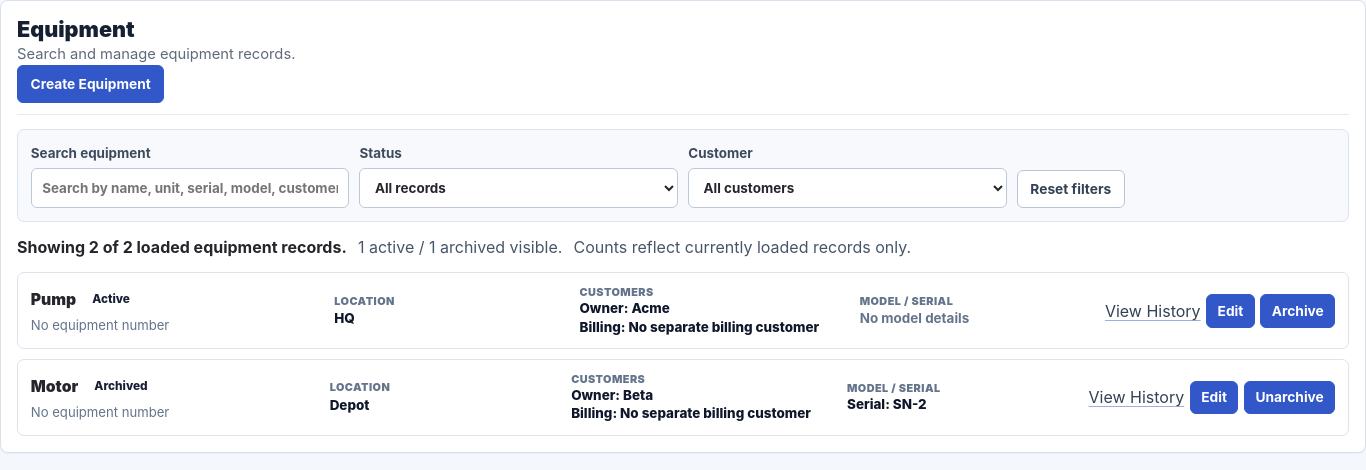
Test: EquipmentPage › filters equipment by customer and archived status
Expected: the text "Pump" is shown, 31,290 -> 76,310
Select "Beta" in the dropdown labelled "Customer". click: (847, 188)
box: 688,168 -> 1006,208
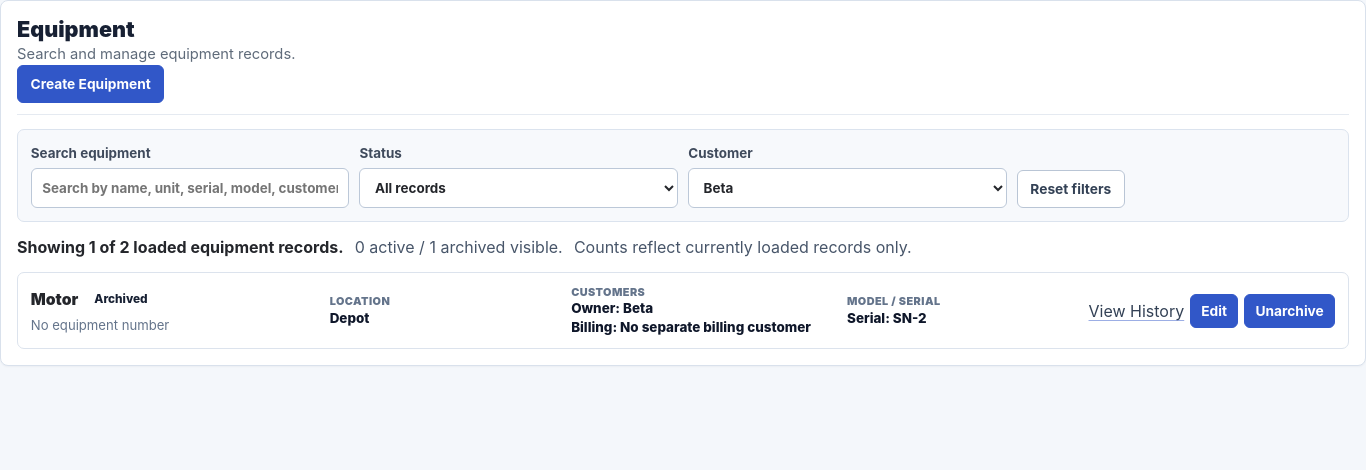
Expected: the text "Motor" is shown, 31,290 -> 78,310
Expected: the text "Pump" is gone
Select "Active only" in the dropdown labelled "Status". click: (519, 188)
box: 360,168 -> 678,208
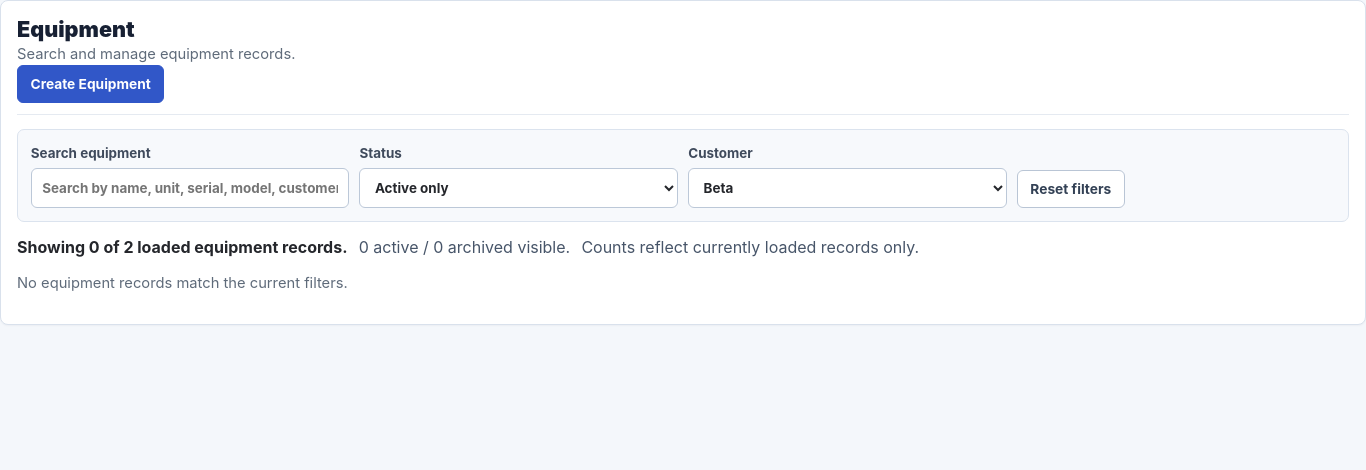
Expected: the text "No equipment records match the current filters." is shown, 17,274 -> 348,292
